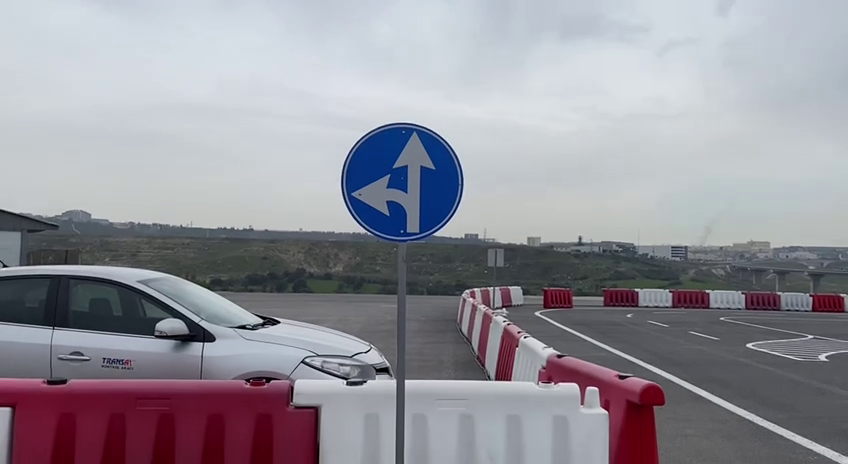forwardAndLeft: (337, 119, 466, 246)
